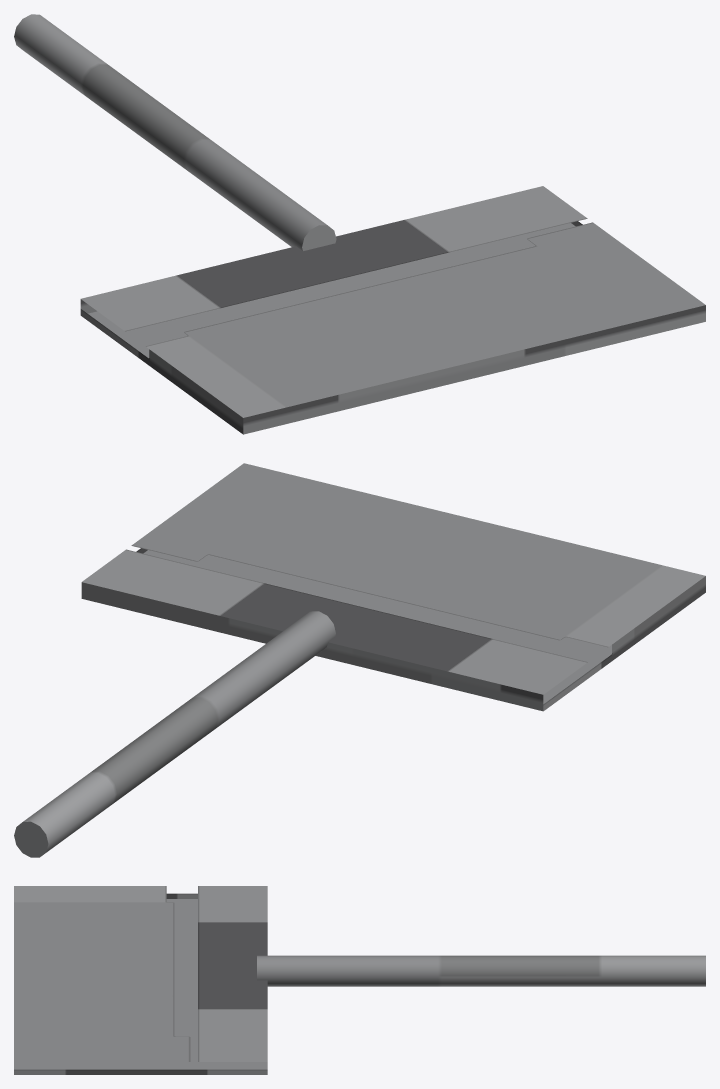
3 renders of one model, top to bottom at view 1: azimuth 30°, elevation 25°; view 2: azimuth 150°, elevation 25°; view 3: azimuth 270°, elevation 25°, orthographic. The views are drawn at different scales.
Bounding box in the file's own units: 1.51 × 0.121 × 2.51.
